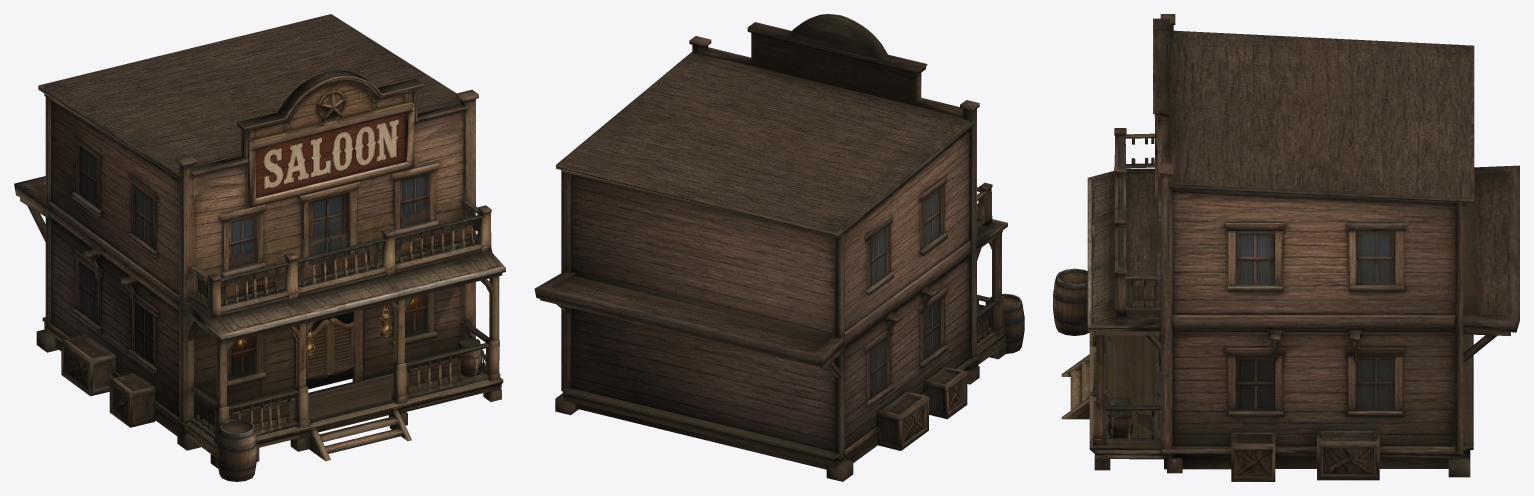
The model's file is saloon.glb.
3 renders of one model, left to right at view 1: azimuth 30°, elevation 25°; view 2: azimuth 150°, elevation 25°; view 3: azimuth 270°, elevation 25°, orthographic. The views are drawn at different scales.
Parts seen in each view (by area): view 1: tripo_node_ebb8675c-371e-4608-898e-4113add2c685; view 2: tripo_node_ebb8675c-371e-4608-898e-4113add2c685; view 3: tripo_node_ebb8675c-371e-4608-898e-4113add2c685.
Boxes of the visible parts, x1,y1,x2,y2 form: tripo_node_ebb8675c-371e-4608-898e-4113add2c685: (14,14,505,481); tripo_node_ebb8675c-371e-4608-898e-4113add2c685: (534,14,1024,481); tripo_node_ebb8675c-371e-4608-898e-4113add2c685: (1053,14,1519,481).
Size of the model in its own units: 0.8833 by 0.8647 by 0.9995.
1 material, 1 textured.
